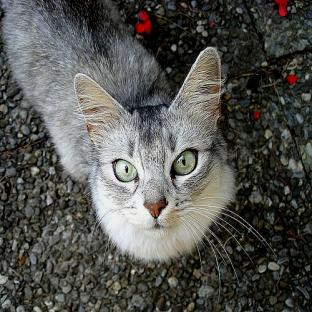Animal: (2, 0, 235, 261)
